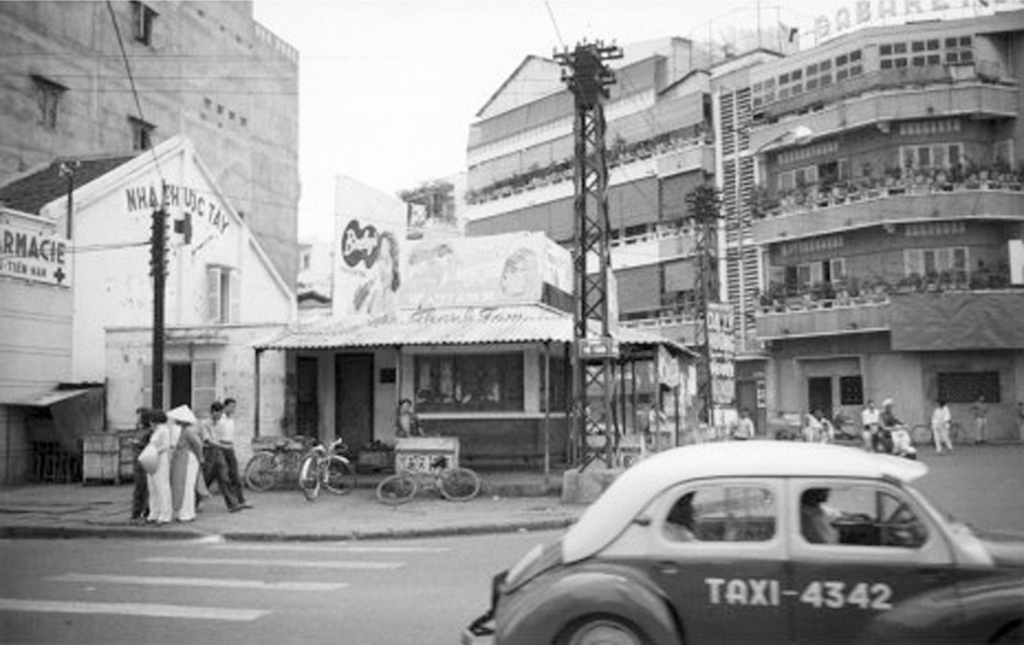Car: (458, 433, 988, 640)
